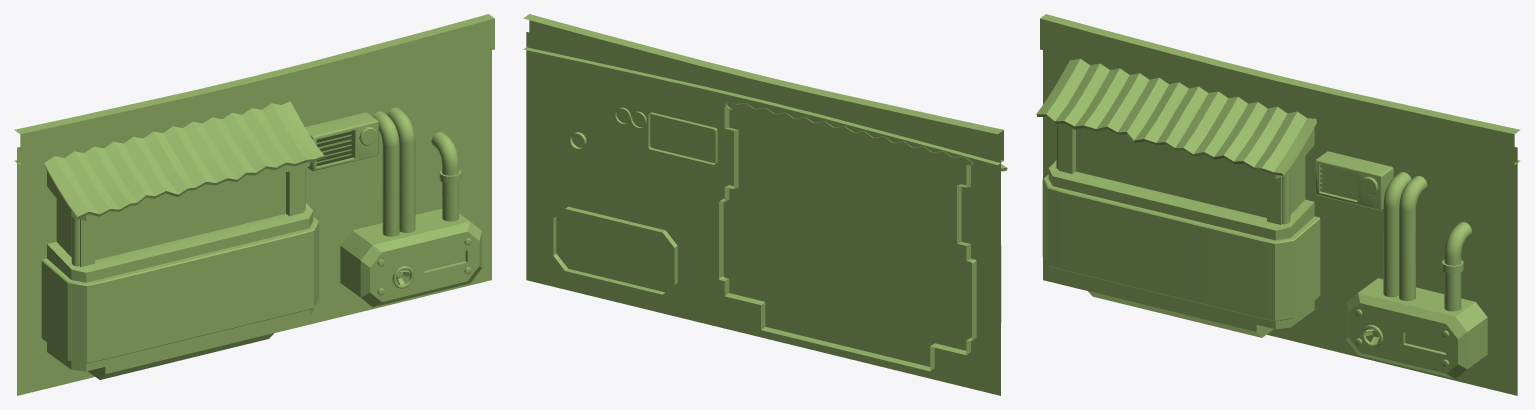
The model's file is Extended_Balcony.fbx.
The picture shows the model from 3 angles, left to right: view 1: azimuth 30°, elevation 25°; view 2: azimuth 150°, elevation 25°; view 3: azimuth 330°, elevation 25°; orthographic projection.
Parts seen in each view (by area): view 1: Extended_Balcony; view 2: Extended_Balcony; view 3: Extended_Balcony.
Boxes of the visible parts, x1=… form: Extended_Balcony: x1=14, y1=14, x2=494, y2=395; Extended_Balcony: x1=523, y1=14, x2=1007, y2=395; Extended_Balcony: x1=1036, y1=14, x2=1520, y2=395.
Size of the model in its own units: 8 by 4.25 by 1.18.
